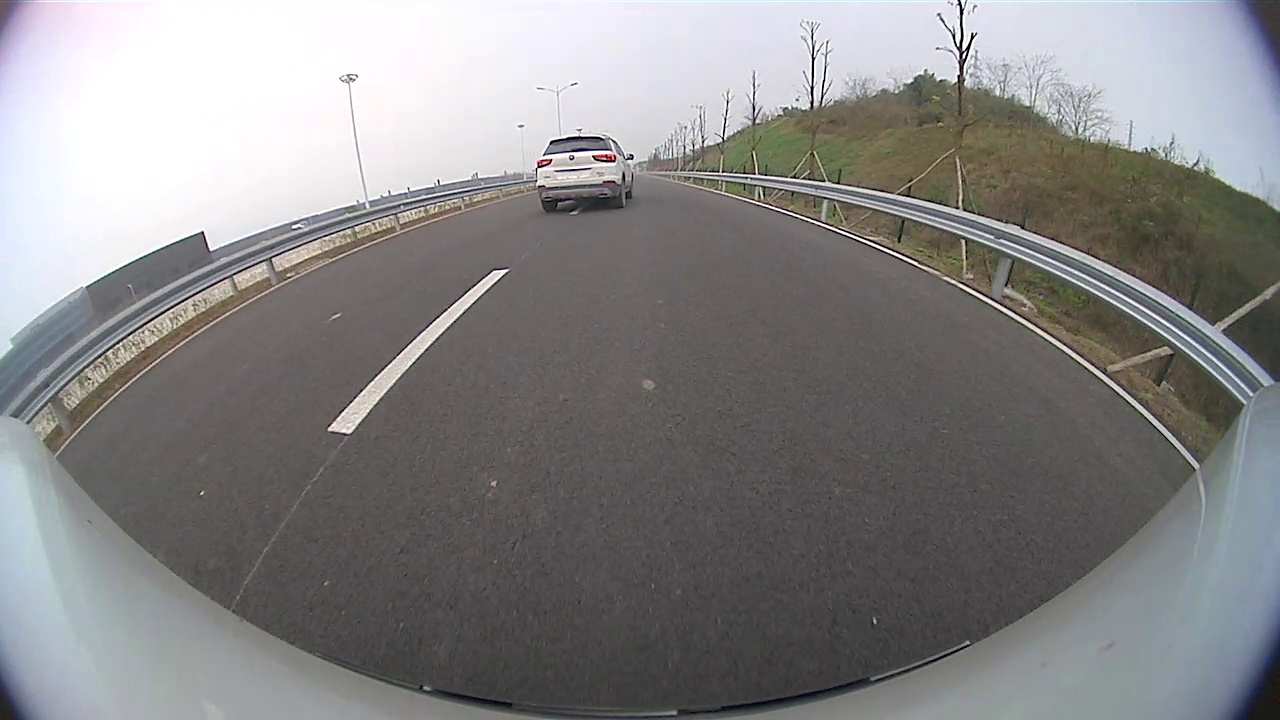car: (535, 132, 632, 215)
